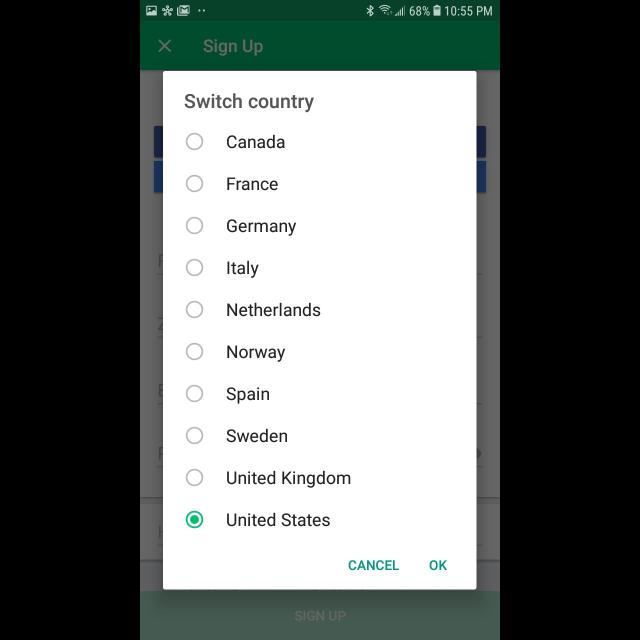checkbox: (185, 132, 202, 150), (185, 174, 202, 192), (185, 216, 202, 234), (185, 258, 202, 276), (185, 300, 202, 318), (185, 384, 202, 402), (185, 426, 202, 444), (185, 468, 202, 486), (185, 510, 202, 528), (186, 342, 202, 360)
panel: (164, 70, 476, 590)
text: (185, 93, 315, 113), (227, 470, 351, 488), (227, 302, 321, 318), (228, 513, 330, 527), (228, 220, 296, 237), (227, 346, 285, 362), (226, 429, 288, 443), (227, 135, 285, 149), (227, 388, 270, 404), (348, 560, 399, 572), (228, 178, 278, 190), (228, 261, 258, 279), (429, 560, 447, 570)
uppertaskbar: (140, 1, 500, 22)
